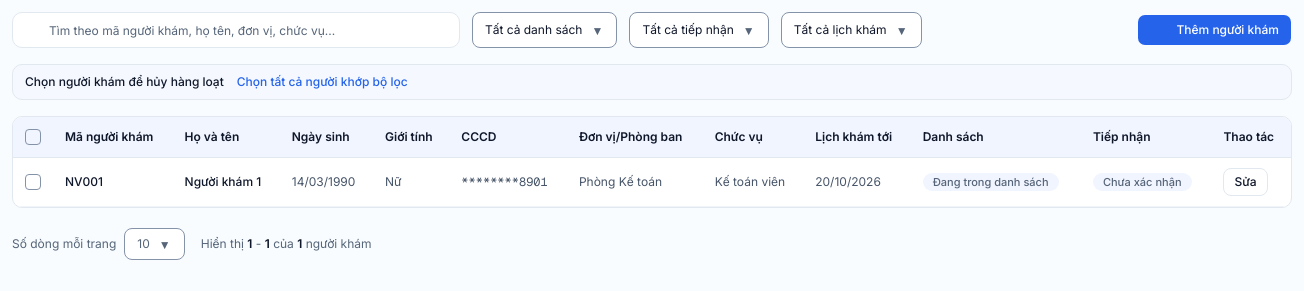
manual Participant actions are shown only when allowed › shows Add and Edit for a manager on a Draft agreement, and Cancel only once a row is ticked
The width and height of the screenshot is (1304, 291).
Check: the text "Người khám 1" is shown, box [173,158,280,206]
Check: the button "Thêm người khám" is shown, box [1137,14,1292,46]
Click the checkbox named "Chọn Người khám 1". click: coordinates (33, 182)
box: [25,174,41,190]
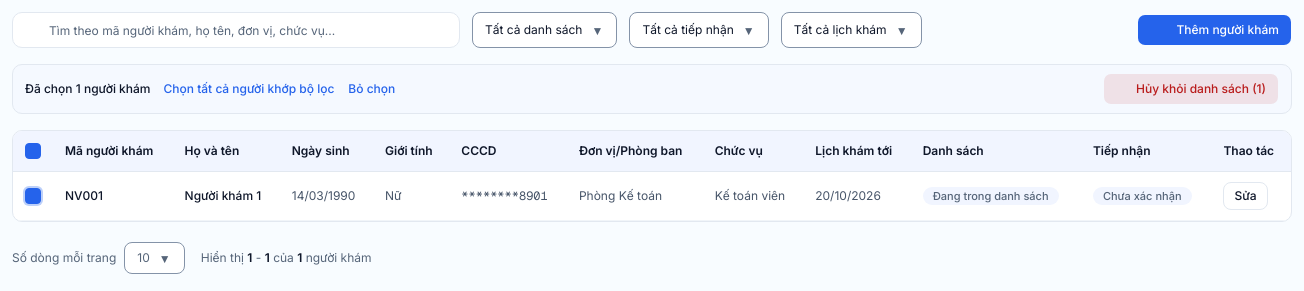
Check: the button "Hủy khỏi danh sách (1)" is enabled, box [1103,73,1279,105]
Click the button "Bỏ chọn". click: coordinates (372, 89)
box: [347,80,396,98]
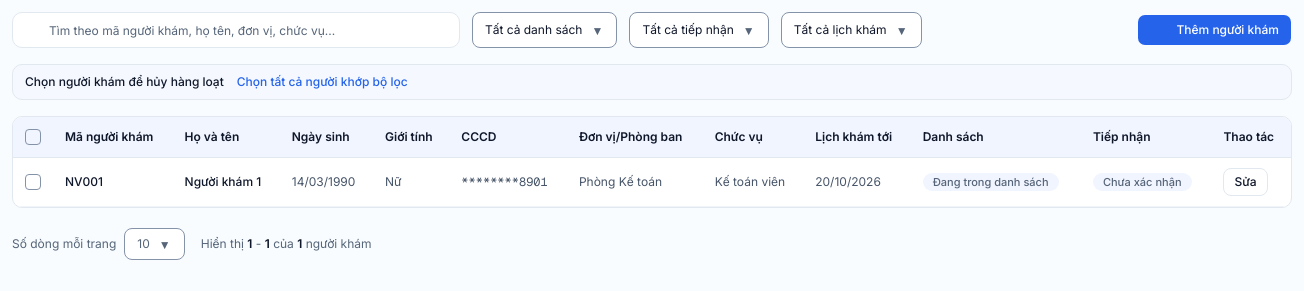
Check: the button "Hủy khỏi danh sách" is gone
